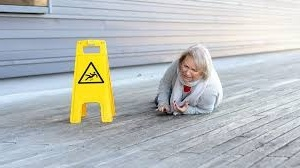fall: (148, 40, 228, 118)
